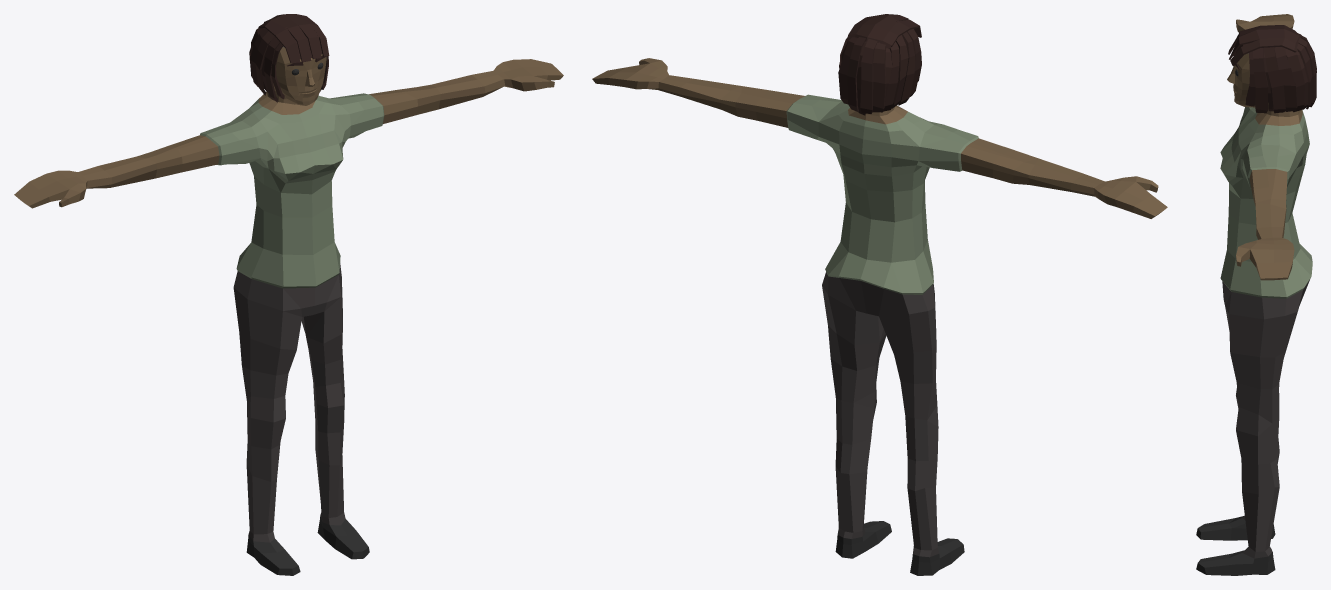
Rendered from Female_Casual.fbx.
3 renders of one model, left to right at view 1: azimuth 30°, elevation 25°; view 2: azimuth 150°, elevation 25°; view 3: azimuth 270°, elevation 25°, orthographic. The views are drawn at different scales.
Parts seen in each view (by area): view 1: Female; view 2: Female; view 3: Female.
Part boxes in pixels (x1,y1,x2,y2): Female: (14, 14, 563, 575); Female: (592, 14, 1167, 575); Female: (1196, 14, 1316, 575).
Size of the model in its own units: 503 by 466 by 97.29.
